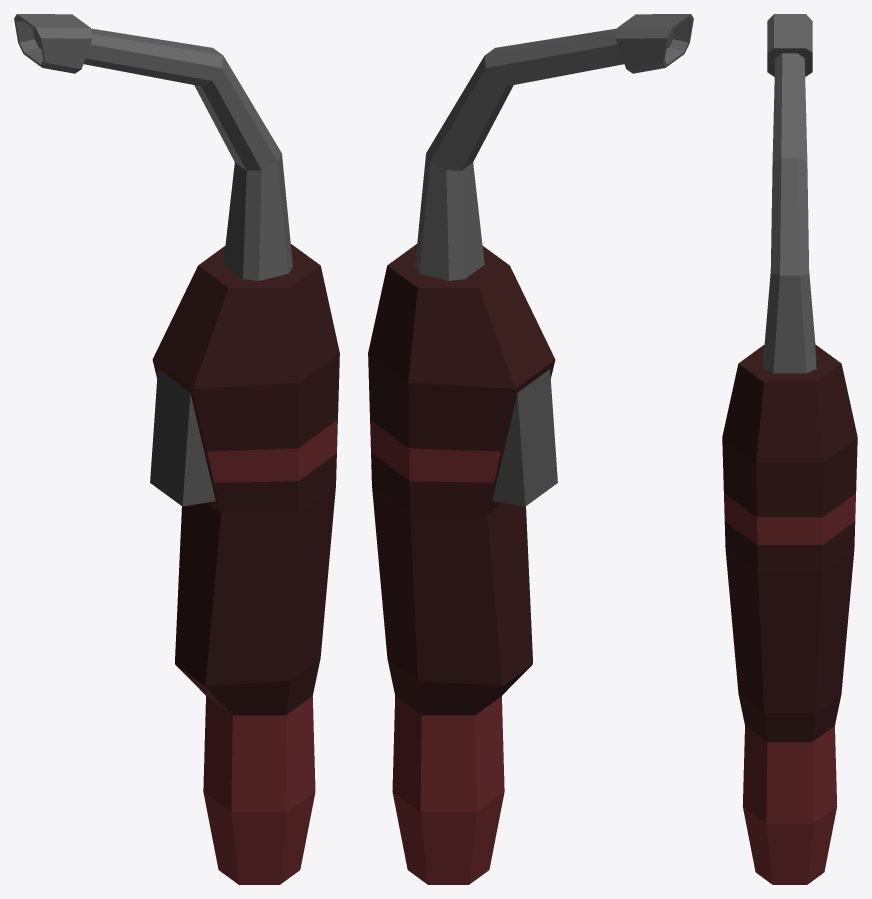
File: thermal-lance-low-poly.fbx
3 views of the same model, side by side, from view 1: azimuth 30°, elevation 25°; view 2: azimuth 150°, elevation 25°; view 3: azimuth 270°, elevation 25° (orthographic). The views are drawn at different scales.
Visible parts, largest first — view 1: Cube; view 2: Cube; view 3: Cube.
Boxes of the visible parts, bbox=[...] form: Cube: bbox=[14, 14, 339, 884]; Cube: bbox=[368, 14, 693, 884]; Cube: bbox=[722, 14, 857, 884].
Bounding box in the file's own units: 52.16 × 154 × 24.77.
